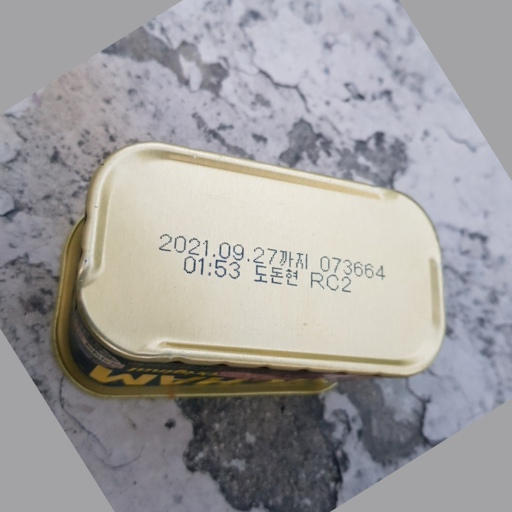Metal_2: (52, 141, 447, 401)
